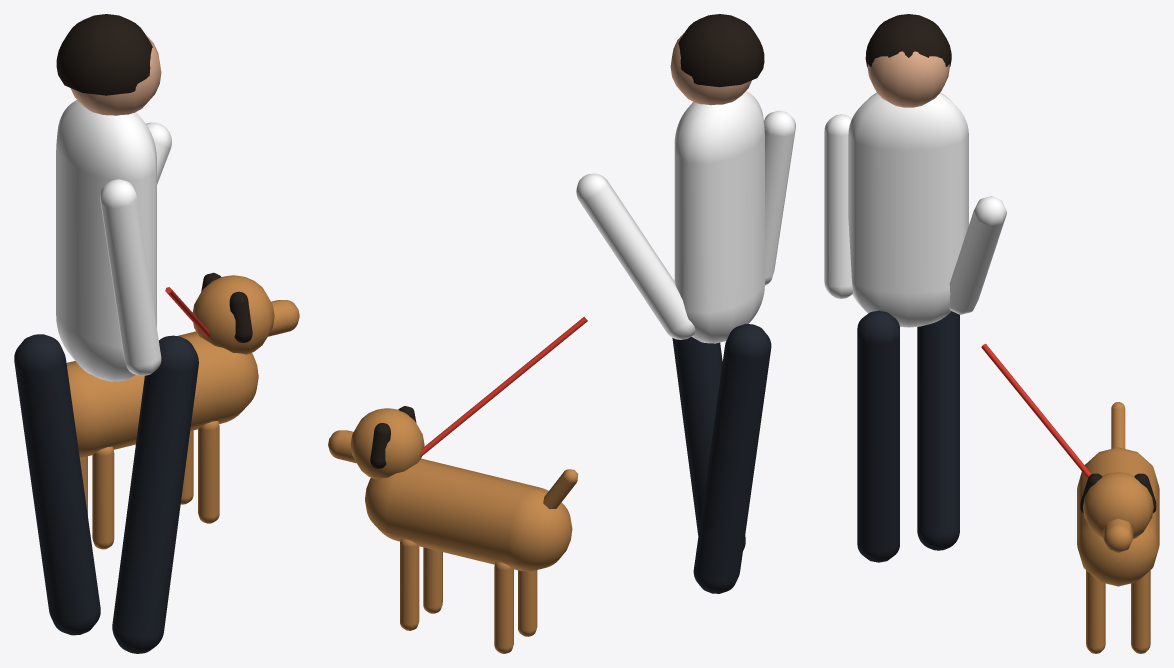
Rendered from persona_perro.glb.
3 views of the same model, side by side, from view 1: azimuth 30°, elevation 25°; view 2: azimuth 150°, elevation 25°; view 3: azimuth 270°, elevation 25° (orthographic). The views are drawn at different scales.
Size of the model in its own units: 1.02 by 1.61 by 0.895.
